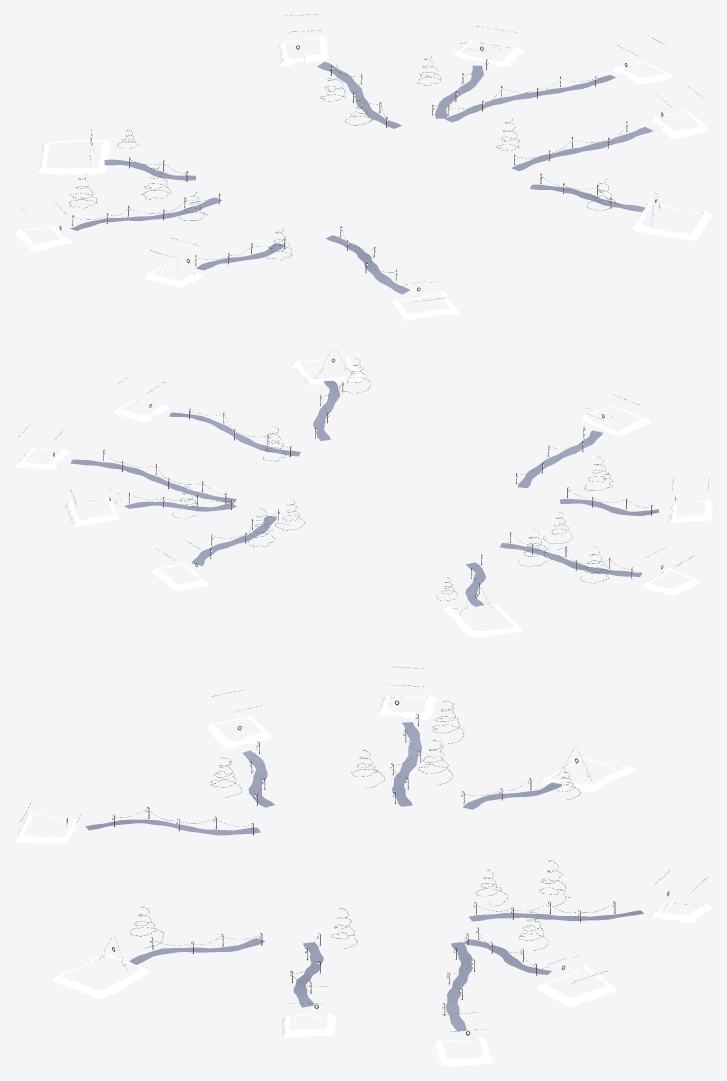
Rendered from Pueblo_Luces.glb.
3 renders of one model, top to bottom at view 1: azimuth 30°, elevation 25°; view 2: azimuth 150°, elevation 25°; view 3: azimuth 270°, elevation 25°, orthographic. The views are drawn at different scales.
Parts seen in each view (by area): view 1: Senderos, NieveCasas, LucesPueblo; view 2: Senderos, NieveCasas, LucesPueblo; view 3: Senderos, NieveCasas, LucesPueblo.
Part boxes in pixels (bbox=[...]): Senderos: bbox=[70, 61, 653, 294]; NieveCasas: bbox=[14, 36, 712, 320]; LucesPueblo: bbox=[21, 14, 703, 303]; Senderos: bbox=[70, 380, 659, 606]; NieveCasas: bbox=[14, 357, 712, 637]; LucesPueblo: bbox=[18, 350, 709, 613]; Senderos: bbox=[85, 722, 643, 1030]; NieveCasas: bbox=[14, 695, 712, 1066]; LucesPueblo: bbox=[19, 666, 708, 1032].
Size of the model in its own units: 122 by 8.41 by 99.42.
